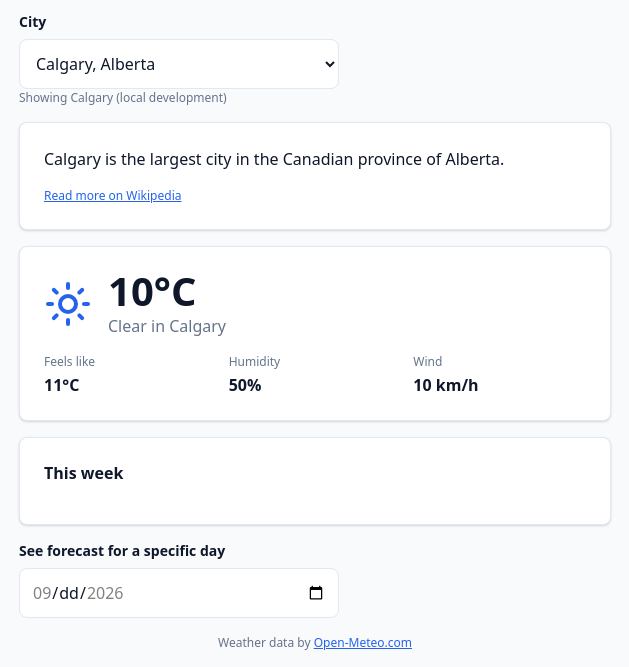
Test: TravelPlannerPage › loads the first city's weather by default, then replaces it when a different city is selected
Expected: the text "Clear in Calgary" is shown, [108,315,226,337]
Expected: the text "10°C" is shown, [108,263,196,318]
Select "Tokyo" in the dropdown labelled "City" at {"x": 179, "y": 64}, box [19,39,339,89]
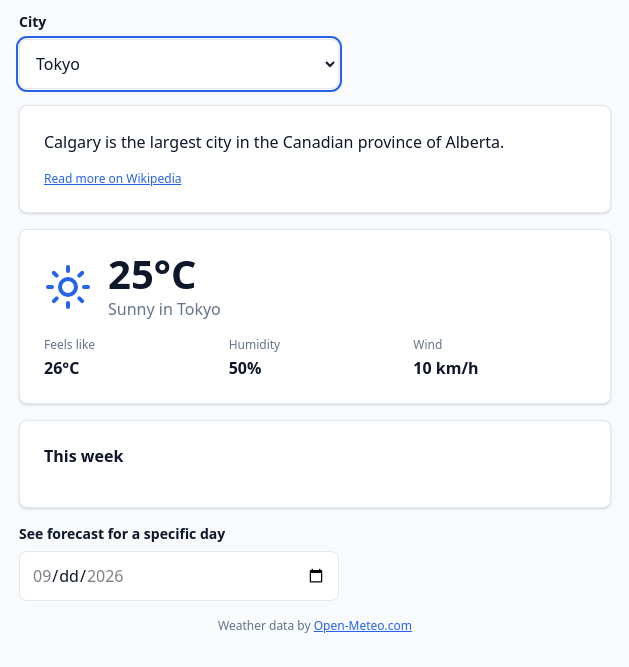
Result: the text "Sunny in Tokyo" is shown at [108,298,221,320]
Result: the text "25°C" is shown at [108,246,196,301]
Result: the text "Clear in Calgary" is gone
